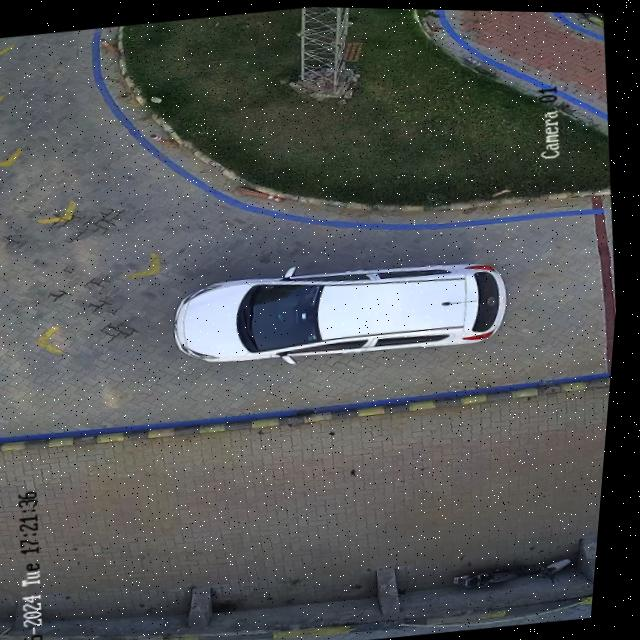car: (180, 259, 514, 360)
